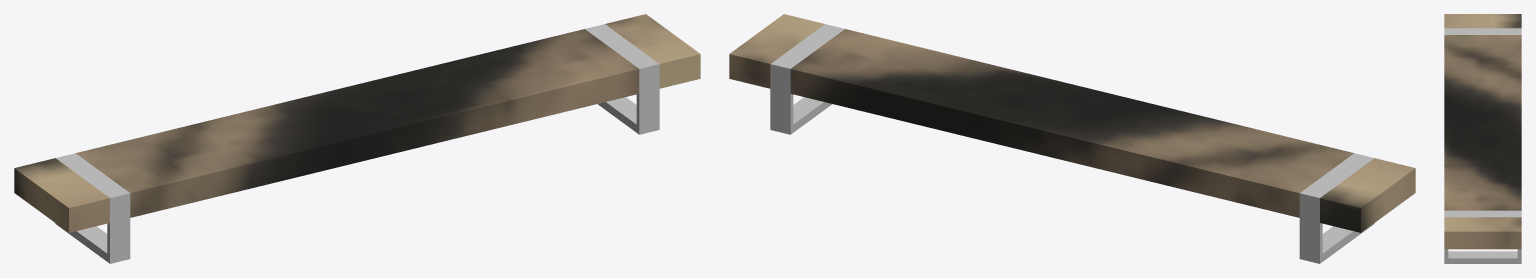
Rendered from Bench.fbx.
The picture shows the model from 3 angles, left to right: view 1: azimuth 30°, elevation 25°; view 2: azimuth 150°, elevation 25°; view 3: azimuth 270°, elevation 25°; orthographic projection. The views are drawn at different scales.
Parts seen in each view (by area): view 1: BlueChip_Interior.007; view 2: BlueChip_Interior.007; view 3: BlueChip_Interior.007.
Boxes of the visible parts, left/top/right/bottom form: BlueChip_Interior.007: left=14, top=14, right=700, bottom=263; BlueChip_Interior.007: left=729, top=14, right=1415, bottom=263; BlueChip_Interior.007: left=1444, top=14, right=1521, bottom=263.
Bounding box in the file's own units: 400 × 39.85 × 60.
